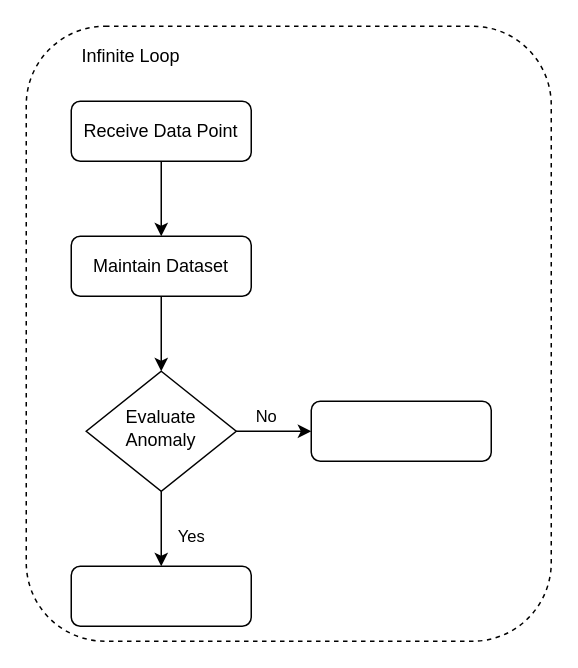
Image size: 578x668. Some labels were removed from this diagram. The shapes that lost their labels are listed below. From the top down, each one's box as (x1, y1, x2, y2) in pixels, then its label:
(310, 400, 491, 461): Score = 0
(70, 565, 251, 626): Score = 1
